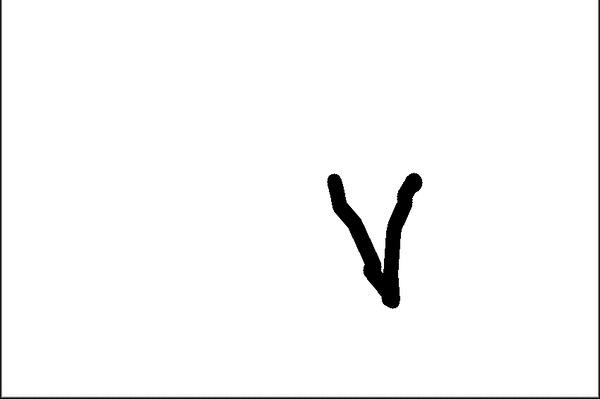V: (312, 156, 439, 312)
